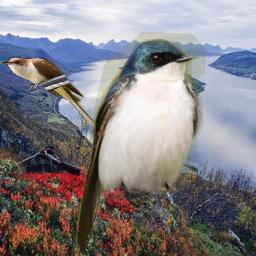Cuckoo: (0, 56, 106, 137)
Swallow: (76, 31, 205, 256)
